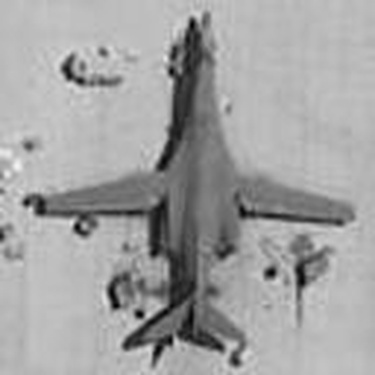airplane: (18, 9, 363, 361)
